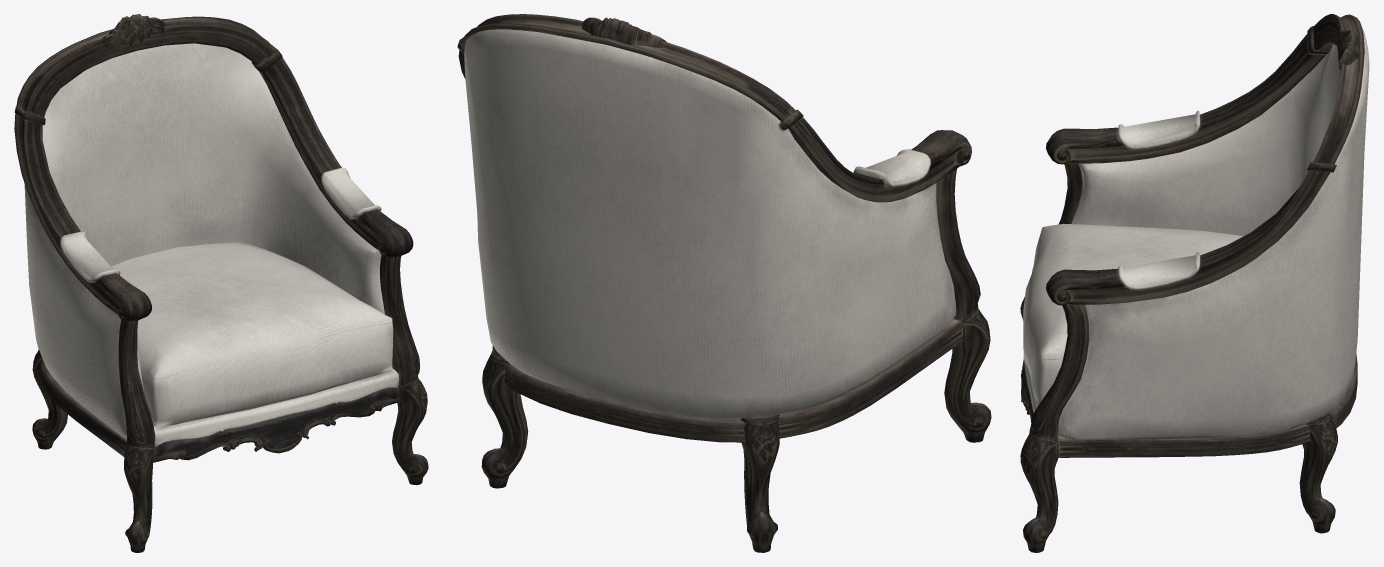
The model's file is armchair-classic.glb.
3 views of the same model, side by side, from view 1: azimuth 30°, elevation 25°; view 2: azimuth 150°, elevation 25°; view 3: azimuth 270°, elevation 25° (orthographic). The views are drawn at different scales.
Parts seen in each view (by area): view 1: ArmChair_01; view 2: ArmChair_01; view 3: ArmChair_01.
Part boxes in pixels (x1,y1,x2,y2): ArmChair_01: [14, 14, 428, 552]; ArmChair_01: [457, 14, 991, 552]; ArmChair_01: [1020, 14, 1369, 552].
Size of the model in its own units: 0.8484 by 1.07 by 0.7657.
2 materials, 2 textured.
